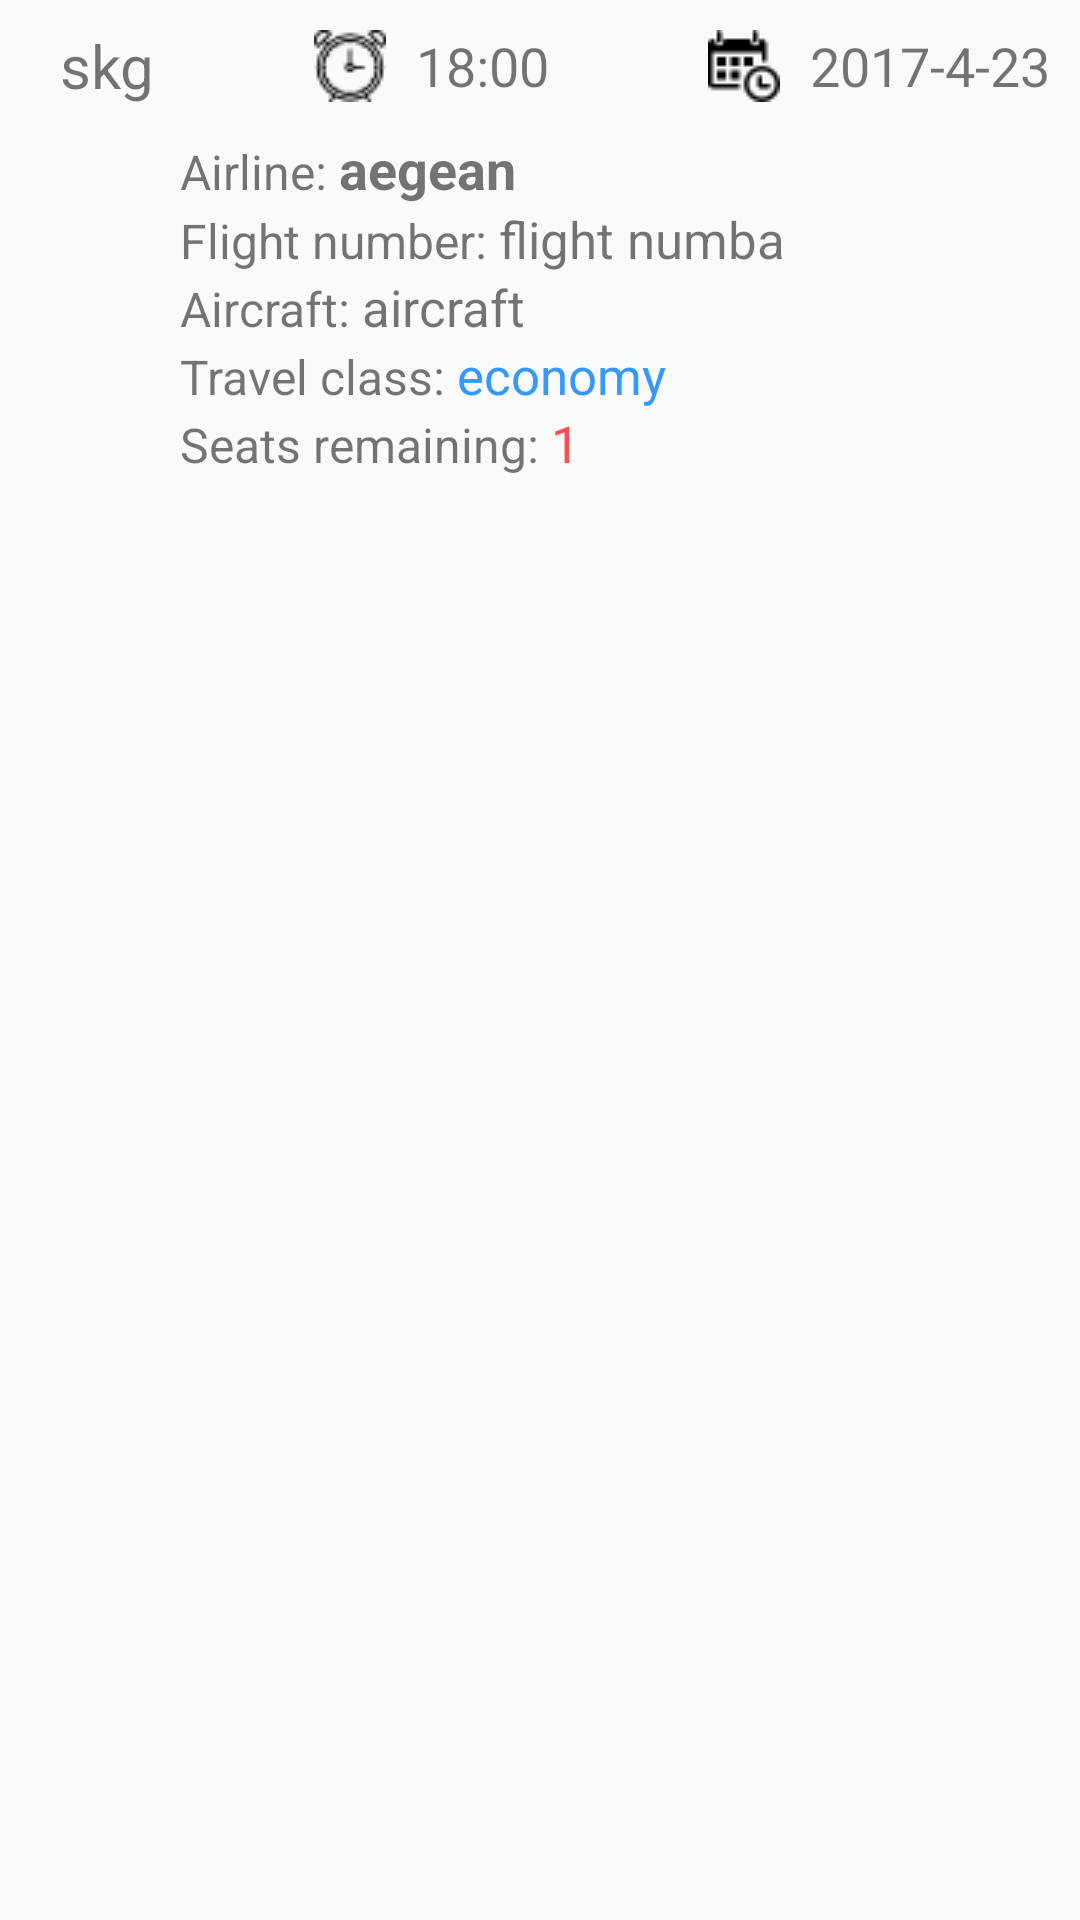

Named icons in this screenshot (1080x1920) and their centers, (x=x, y=y):
alarm clock: (x=350, y=66)
calendar: (x=744, y=66)
